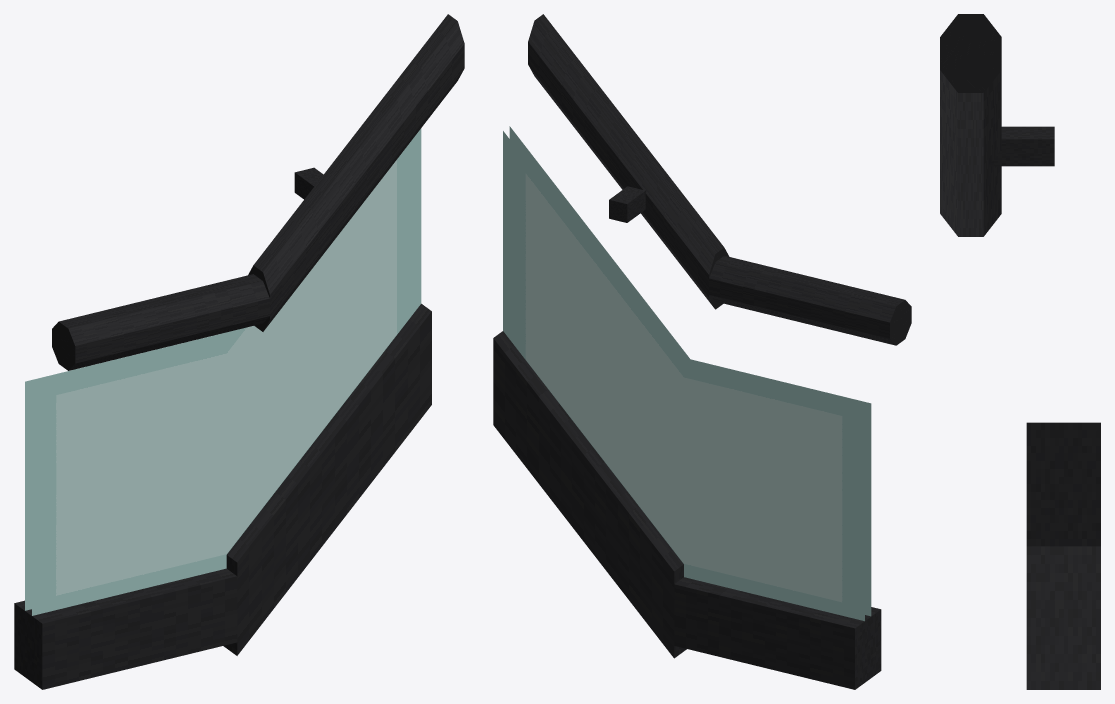
Rendered from foot_pos.obj.
3 views of the same model, side by side, from view 1: azimuth 30°, elevation 25°; view 2: azimuth 150°, elevation 25°; view 3: azimuth 270°, elevation 25° (orthographic). The views are drawn at different scales.
Visible parts, largest first — view 1: railing_glass_black_foot_pos; view 2: railing_glass_black_foot_pos; view 3: railing_glass_black_foot_pos.
Boxes of the visible parts, left/top/right/bottom form: railing_glass_black_foot_pos: left=14, top=14, right=464, bottom=689; railing_glass_black_foot_pos: left=493, top=14, right=911, bottom=689; railing_glass_black_foot_pos: left=940, top=14, right=1100, bottom=689.
Bounding box in the file's own units: 1 × 1.49 × 0.2707.
